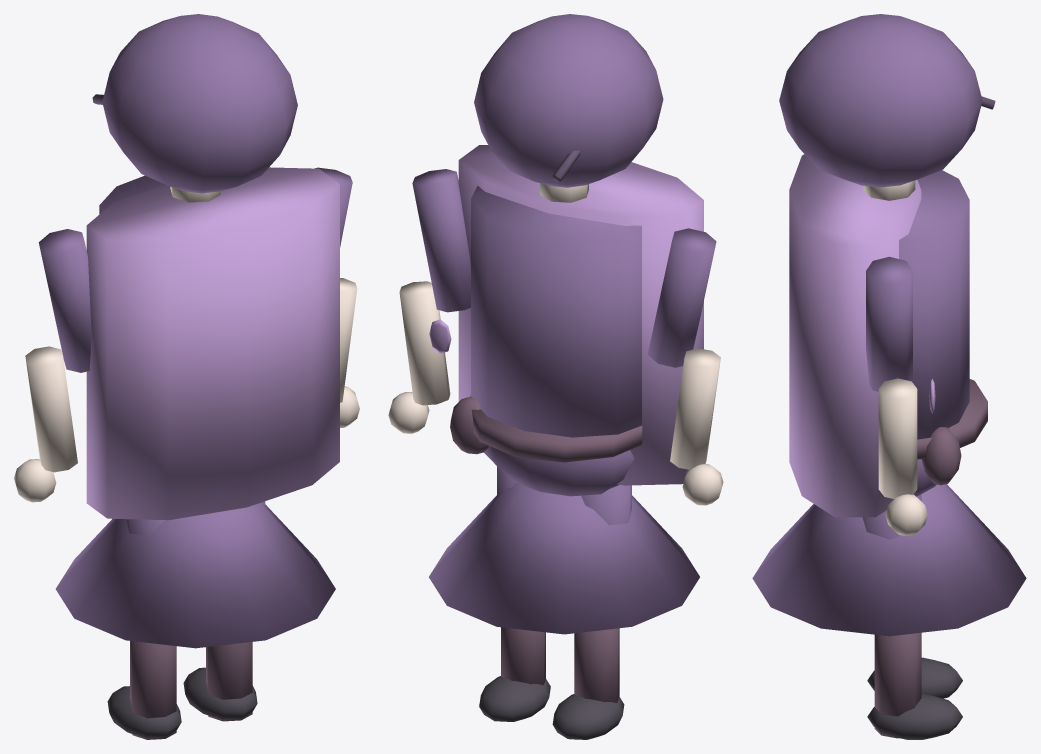
File: mirelle.glb
The picture shows the model from 3 angles, left to right: view 1: azimuth 30°, elevation 25°; view 2: azimuth 150°, elevation 25°; view 3: azimuth 270°, elevation 25°; orthographic projection. The views are drawn at different scales.
Visible parts, largest first — view 1: Mirelle; view 2: Mirelle; view 3: Mirelle.
Boxes of the visible parts, x1,y1,x2,y2 form: Mirelle: (14,14,359,739); Mirelle: (388,14,723,739); Mirelle: (752,14,1026,739).
Bounding box in the file's own units: 0.9 × 1.79 × 0.64.
